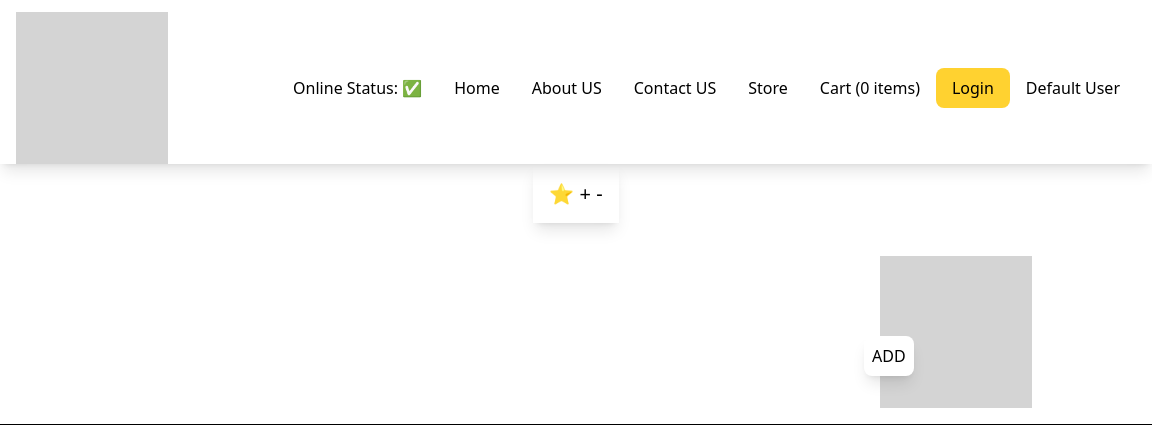
Test: Should add the items to the Cart by Clicking ADD Button
Click the button "ADD" at (889, 356), box 864,336 -> 914,376
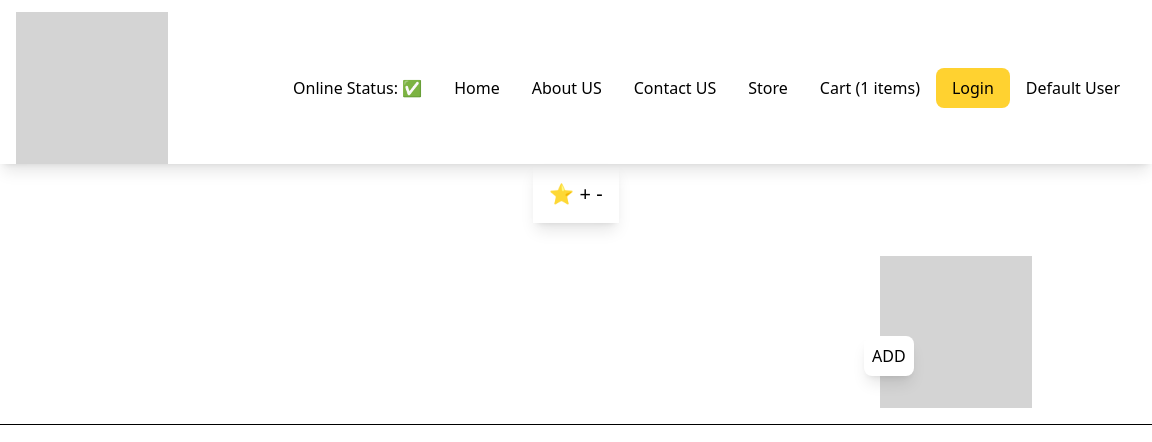
Result: the link "Cart (1 items)" is shown at 820,77 -> 920,99
